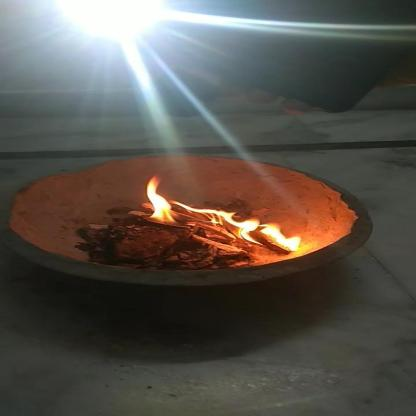fire: (138, 175, 301, 258)
